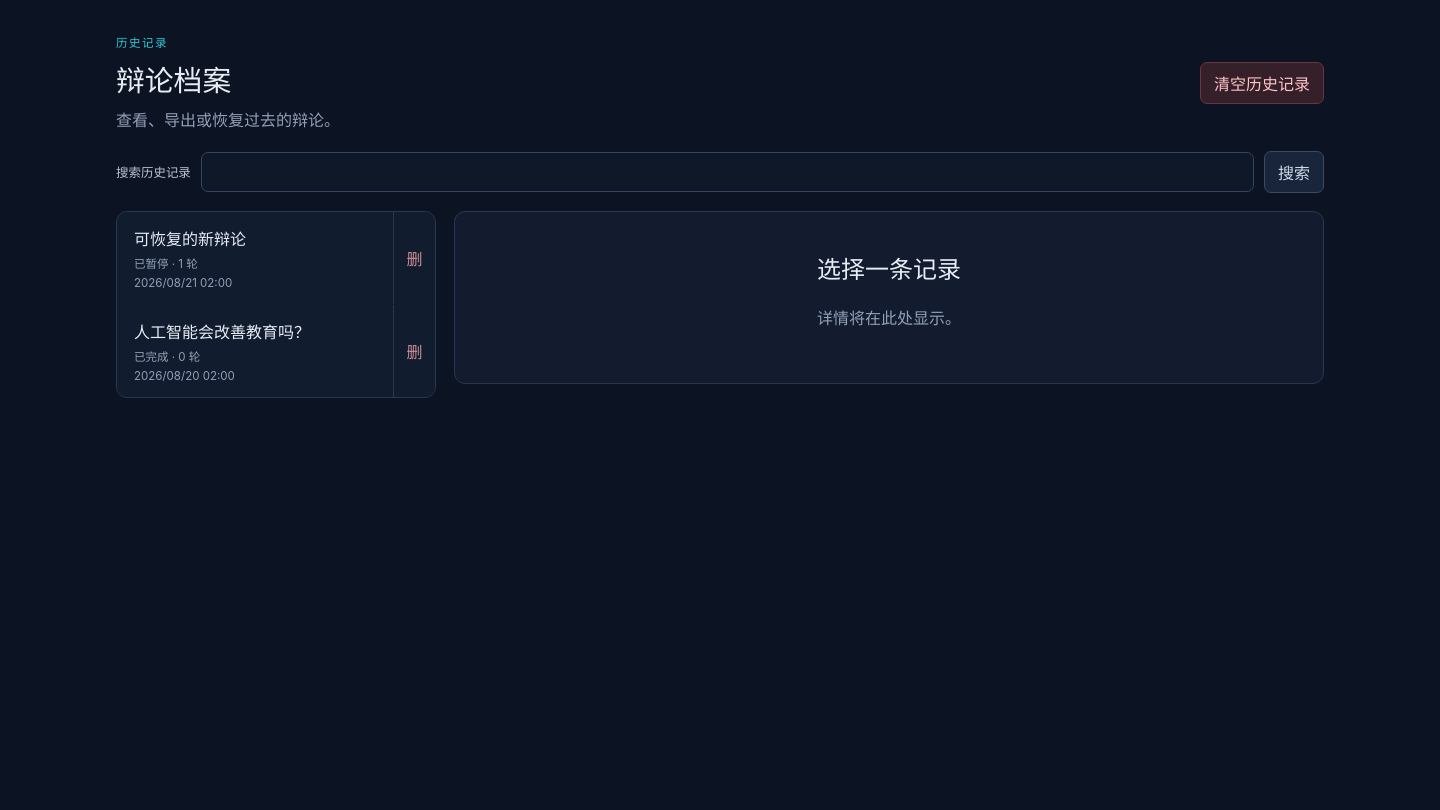
Test case: history page › ignores an older detail response after a newer selection
Click the button with aria-label "查看人工智能会改善教育吗" at (222, 332), box [117, 305, 393, 397]
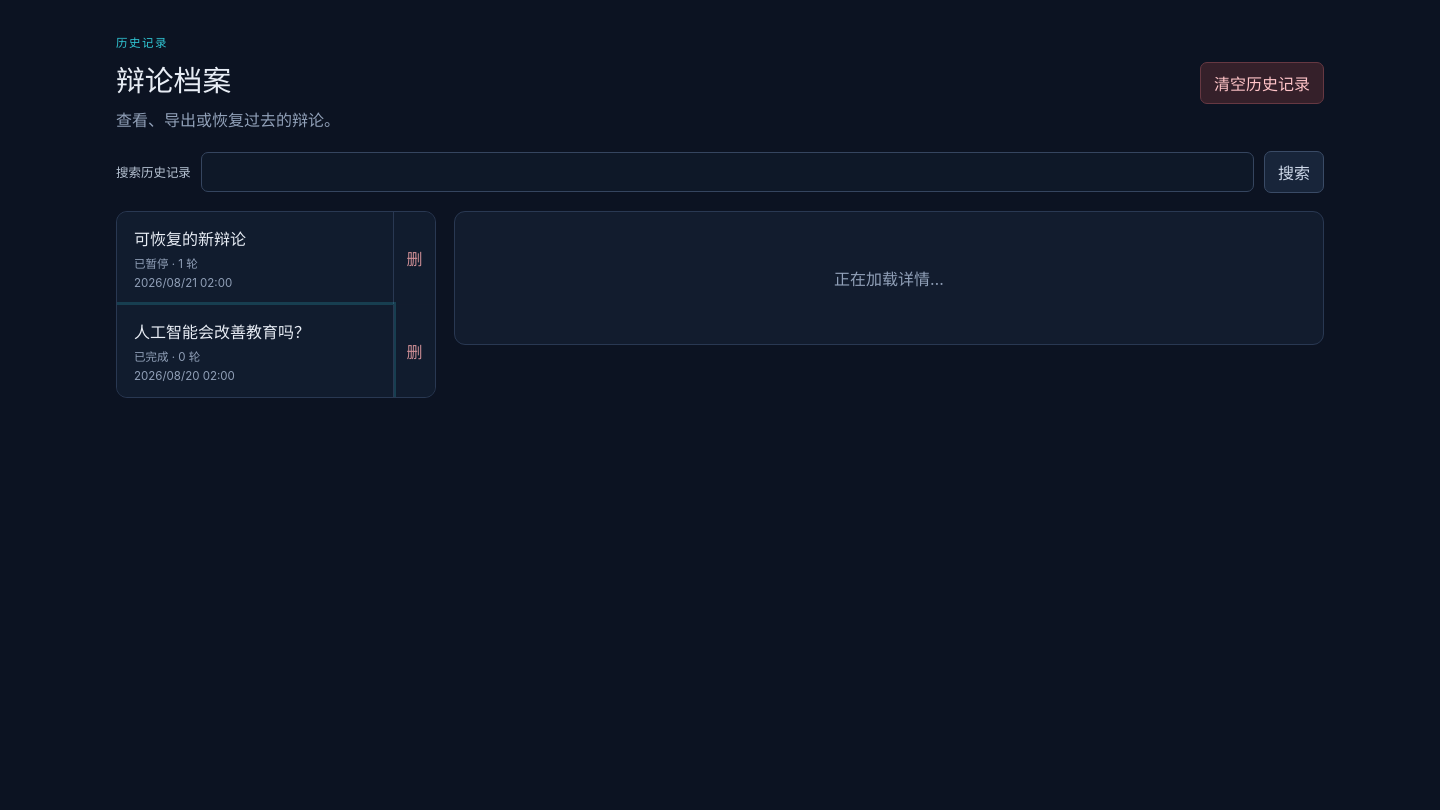
Click the button with aria-label "查看可恢复的新辩论" at (190, 239), box [117, 212, 393, 304]
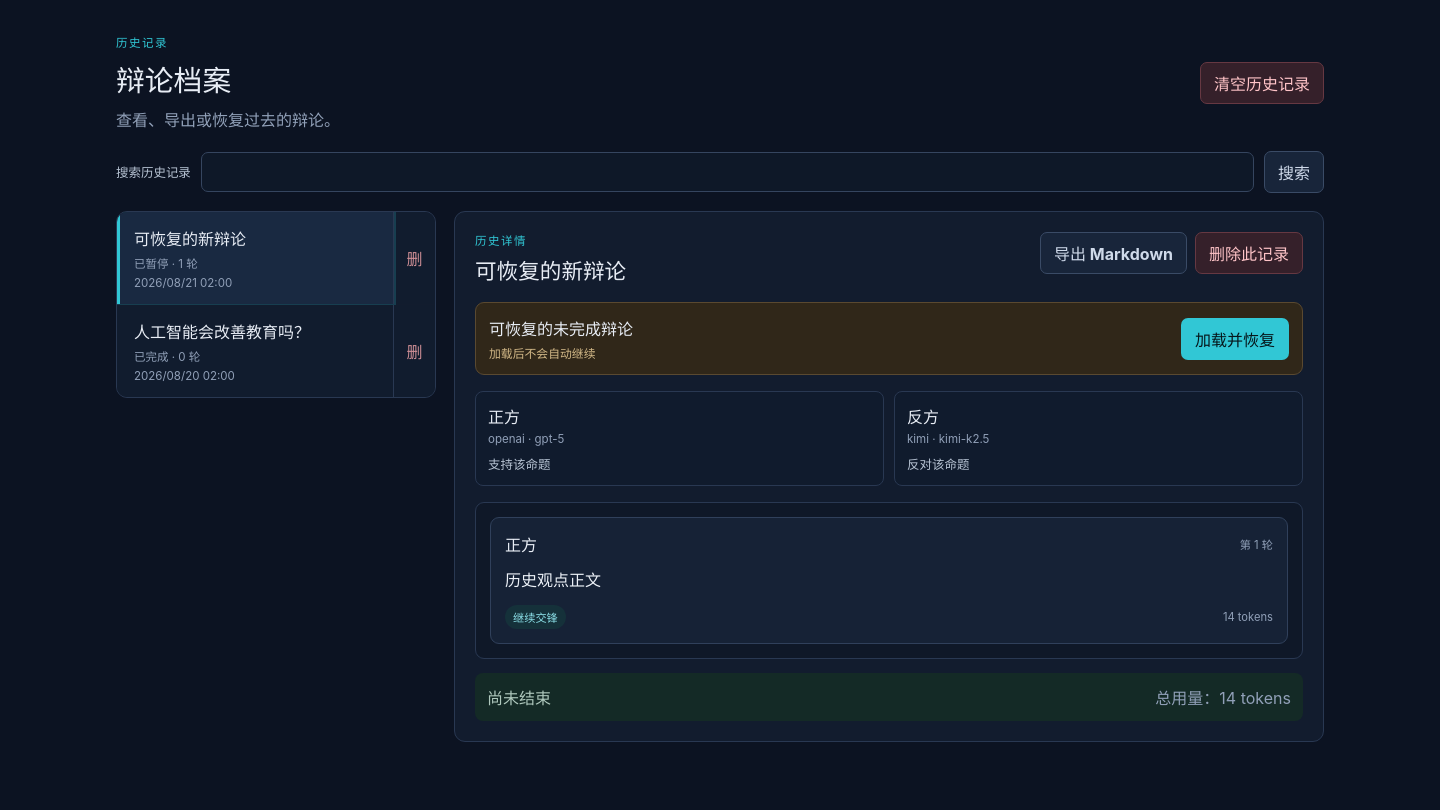
Expected: the heading "可恢复的新辩论" is shown, [475, 256, 626, 286]
